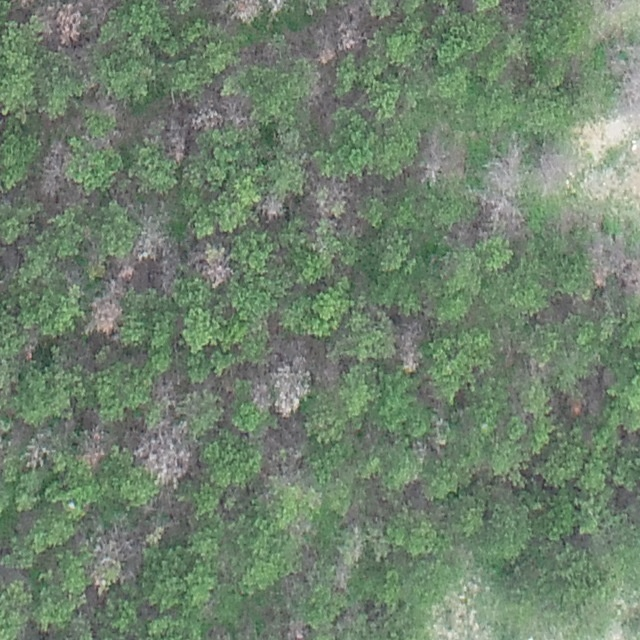unhealthy: (131, 415, 201, 485), (92, 522, 144, 582), (415, 129, 469, 182), (270, 356, 309, 418), (479, 193, 529, 239), (483, 146, 525, 194), (586, 234, 621, 290), (534, 143, 574, 191), (190, 245, 233, 289), (44, 2, 84, 48), (608, 48, 639, 104), (395, 317, 425, 374), (310, 178, 348, 220), (146, 254, 181, 297), (88, 296, 124, 335), (132, 226, 172, 261), (149, 369, 186, 406), (221, 91, 254, 128), (37, 161, 66, 202), (78, 429, 108, 467), (160, 121, 187, 163), (17, 436, 50, 470), (616, 249, 639, 295), (185, 102, 222, 130), (497, 0, 531, 28), (554, 203, 585, 233), (256, 193, 287, 223), (83, 0, 120, 22), (336, 23, 364, 52), (248, 376, 271, 411), (316, 357, 343, 386), (230, 0, 262, 22), (341, 0, 370, 22), (103, 273, 128, 298), (282, 618, 309, 640), (333, 560, 351, 592), (315, 45, 336, 65), (264, 0, 288, 15), (116, 262, 135, 279)
